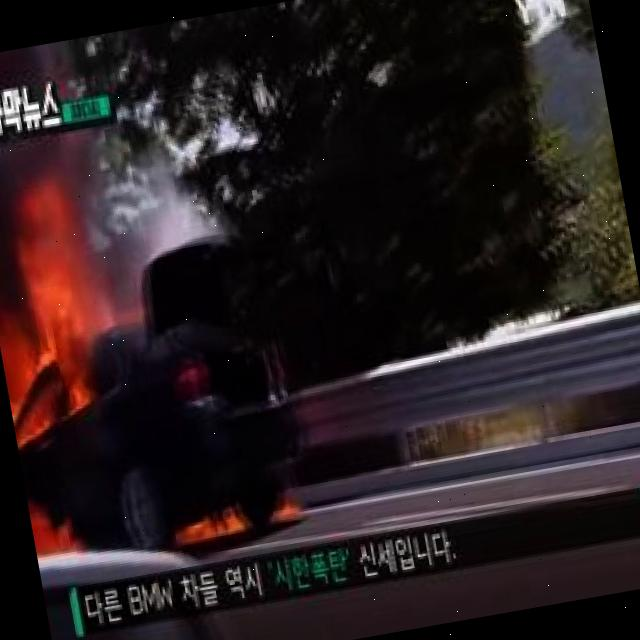fire: (0, 223, 113, 424), (28, 498, 98, 558)
